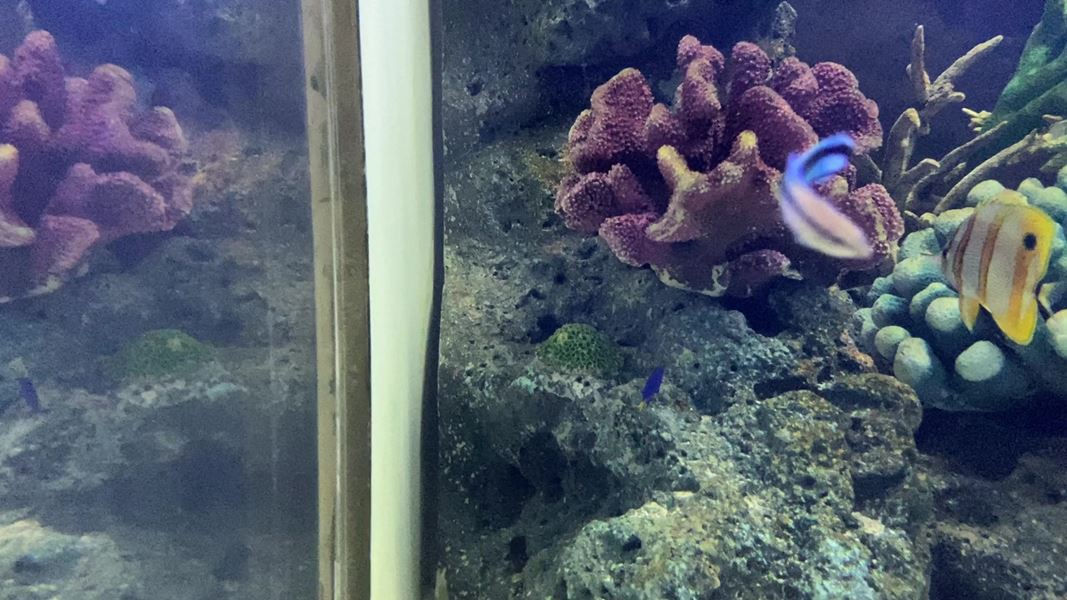Bluesteak cleaner wrasse: (773, 123, 897, 274)
